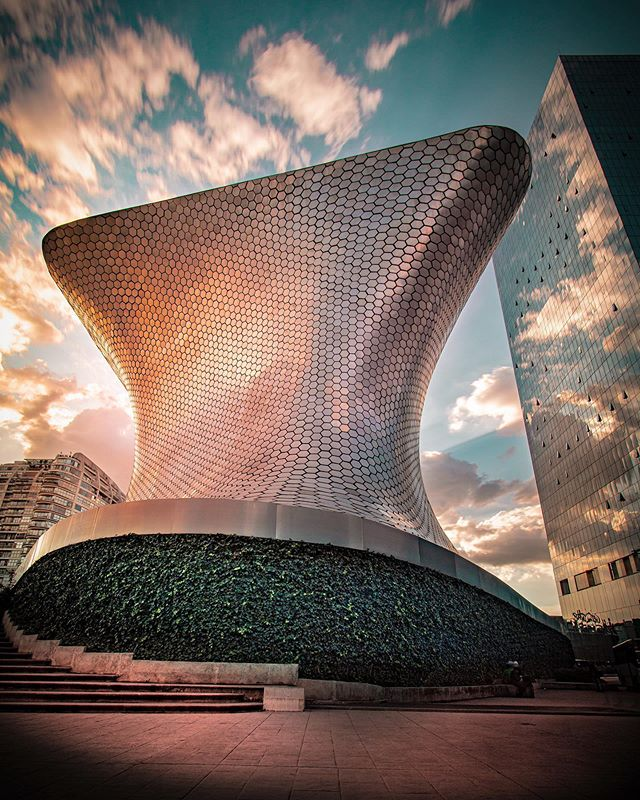building: (34, 127, 542, 682), (477, 68, 640, 636), (1, 439, 135, 581)
sky: (18, 1, 533, 191)
